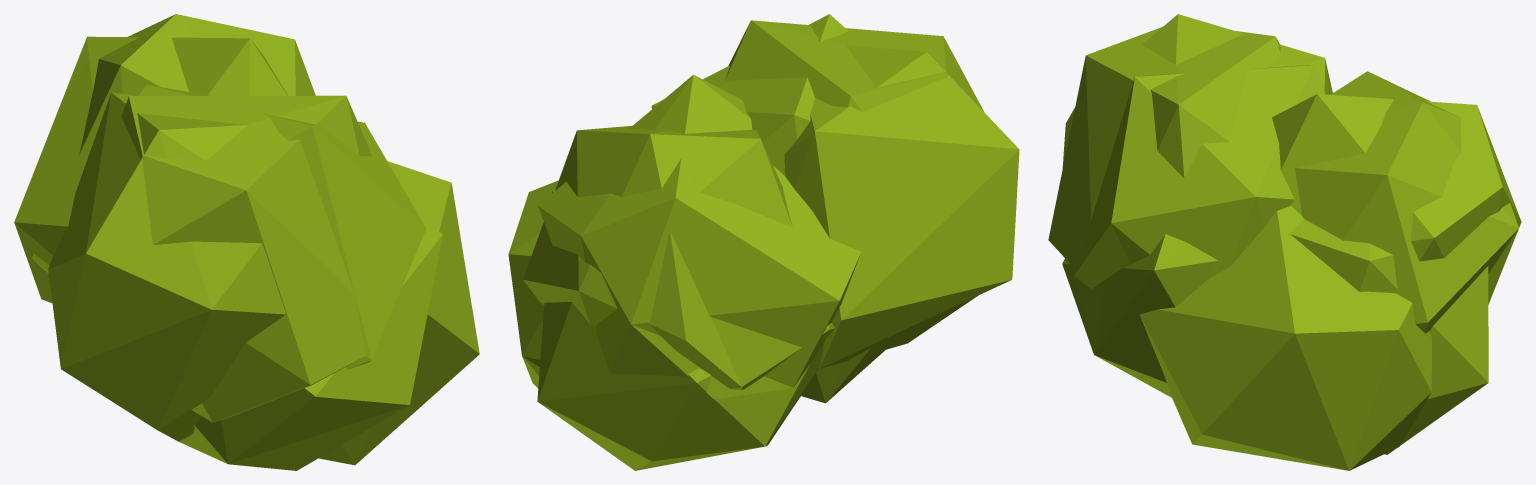
Rendered from Vegetation_Modular_Tree_Foliage_Clump_Large_10.fbx.
The picture shows the model from 3 angles, left to right: view 1: azimuth 30°, elevation 25°; view 2: azimuth 150°, elevation 25°; view 3: azimuth 270°, elevation 25°; orthographic projection. The views are drawn at different scales.
Visible parts, largest first — view 1: Vegetation_Modular_Tree_Foliage_Clump_Large_10; view 2: Vegetation_Modular_Tree_Foliage_Clump_Large_10; view 3: Vegetation_Modular_Tree_Foliage_Clump_Large_10.
Part boxes in pixels (bbox=[...]): Vegetation_Modular_Tree_Foliage_Clump_Large_10: bbox=[14, 14, 479, 470]; Vegetation_Modular_Tree_Foliage_Clump_Large_10: bbox=[508, 14, 1019, 470]; Vegetation_Modular_Tree_Foliage_Clump_Large_10: bbox=[1048, 14, 1521, 470].
Bounding box in the file's own units: 1933 × 1661 × 1988.
